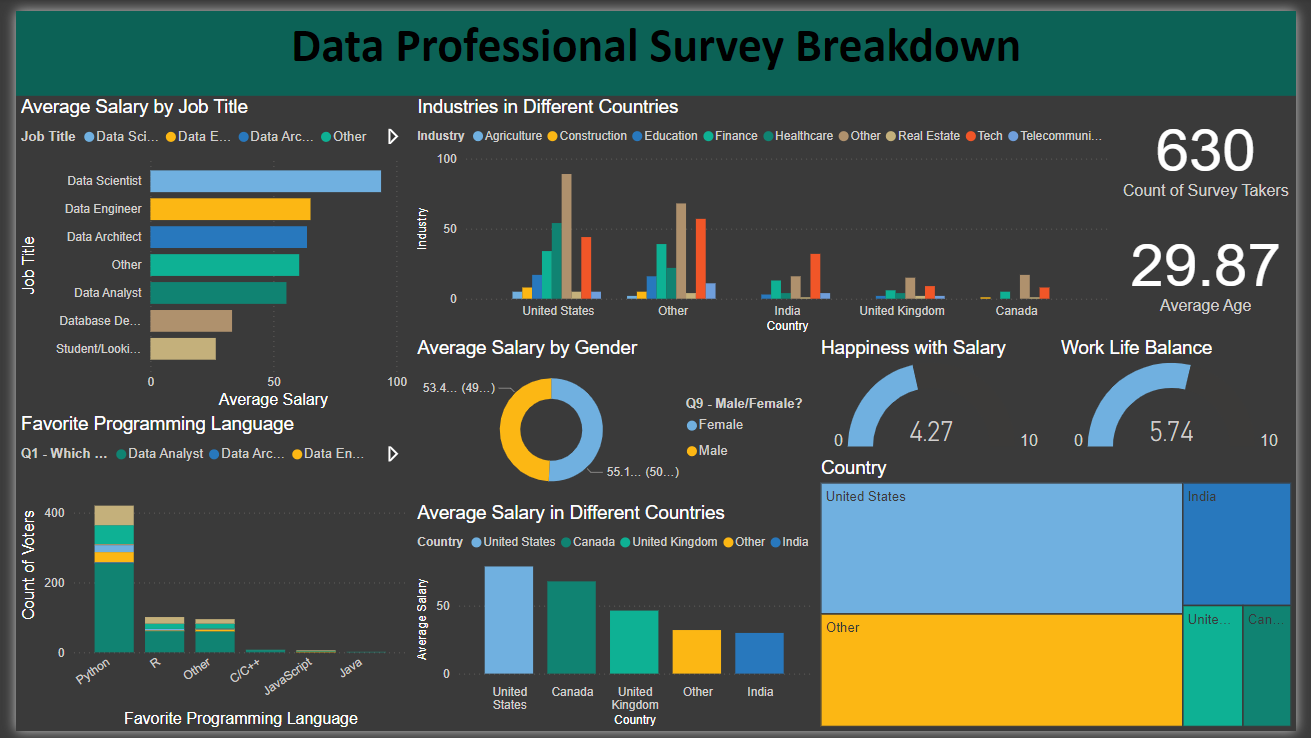

Layout of this report page (visuals, bound fields, positions):
{"tool":"powerbi","page":{"name":"Page 1","canvas":[1280,720],"ordinal":0},"visuals":[{"type":"textbox","box":[0,0,1280.3,85.1],"z":0},{"type":"card","fields":{"Values":["Count(Data Professional Survey.Unique ID)"]},"box":[1100.5,85.1,179.8,115.3],"z":1000},{"type":"barChart","title":"Average Salary by Job Title","fields":{"Category":["Data Professional Survey.Q1 - Which Title Best Fits your Current Role?.1"],"Y":["Avg(Data Professional Survey.Average Salary)"],"Series":["Data Professional Survey.Q1 - Which Title Best Fits your Current Role?.1"]},"box":[0,85.1,396.6,317],"z":3000},{"type":"columnChart","title":"Favorite Programming Language","fields":{"Category":["Data Professional Survey.Q5 - Favorite Programming Language.1.1"],"Y":["CountNonNull(Data Professional Survey.Unique ID)"],"Series":["Data Professional Survey.Q1 - Which Title Best Fits your Current Role?.1"]},"box":[0,402.1,396.6,318.4],"z":4000},{"type":"treemap","title":"Country ","fields":{"Group":["Data Professional Survey.Q11 - Which Country do you live in?.1"],"Values":["CountNonNull(Data Professional Survey.Q11 - Which Country do you live in?.1)"]},"box":[800,446,480.3,274.4],"z":5000},{"type":"gauge","title":"Work Life Balance","fields":{"Y":["Avg(Data Professional Survey.Q6 - How Happy are you in your Current Position with the following? (Work/Life Balance))"],"MinValue":["Min(Data Professional Survey.Q6 - How Happy are you in your Current Position with the following? (Work/Life Balance))"],"MaxValue":["Max(Data Professional Survey.Q6 - How Happy are you in your Current Position with the following? (Work/Life Balance))"]},"box":[1040.1,326.6,240.1,119.4],"z":6000},{"type":"gauge","title":"Happiness with Salary","fields":{"Y":["Avg(Data Professional Survey.Q6 - How Happy are you in your Current Position with the following? (Salary))"],"MinValue":["Min(Data Professional Survey.Q6 - How Happy are you in your Current Position with the following? (Salary))"],"MaxValue":["Max(Data Professional Survey.Q6 - How Happy are you in your Current Position with the following? (Salary))"]},"box":[800,326.6,240.1,119.4],"z":7000},{"type":"donutChart","title":"Average Salary by Gender","fields":{"Category":["Data Professional Survey.Q9 - Male/Female?"],"Y":["Avg(Data Professional Survey.Average Salary)"]},"box":[396.6,326.6,403.4,164.7],"z":8000},{"type":"columnChart","title":"Average Salary in Different Countries","fields":{"Category":["Data Professional Survey.Q11 - Which Country do you live in?.1"],"Y":["Avg(Data Professional Survey.Average Salary)"],"Series":["Data Professional Survey.Q11 - Which Country do you live in?.1"]},"box":[396.6,491.3,403.4,229.2],"z":9000},{"type":"clusteredColumnChart","title":"Industries in Different Countries","fields":{"Category":["Data Professional Survey.Q11 - Which Country do you live in?.1"],"Y":["CountNonNull(Data Professional Survey.Q4 - What Industry do you work in?.1)"],"Series":["Data Professional Survey.Q4 - What Industry do you work in?.1"]},"box":[396.6,85.1,701.2,241.5],"z":10000},{"type":"card","fields":{"Values":["Avg(Data Professional Survey.Q10 - Current Age)"]},"box":[1100.5,200.3,179.8,115.3],"z":10001}]}

Visuals, with their boxes in screenshot pixels (x1, y1, x2, y2), scaled from the page's 1280x720 canvas onto the 1311x738 screenshot:
textbox: <box>0,0,1310,87</box>
card - Count(Data Professional Survey.Unique ID): <box>1127,87,1310,205</box>
"Average Salary by Job Title" barChart: <box>0,87,406,412</box>
"Favorite Programming Language" columnChart: <box>0,412,406,737</box>
"Country " treemap: <box>819,457,1310,737</box>
"Work Life Balance" gauge: <box>1065,335,1310,457</box>
"Happiness with Salary" gauge: <box>819,335,1065,457</box>
"Average Salary by Gender" donutChart: <box>406,335,819,504</box>
"Average Salary in Different Countries" columnChart: <box>406,504,819,737</box>
"Industries in Different Countries" clusteredColumnChart: <box>406,87,1124,335</box>
card - Avg(Data Professional Survey.Q10 - Current Age): <box>1127,205,1310,323</box>
